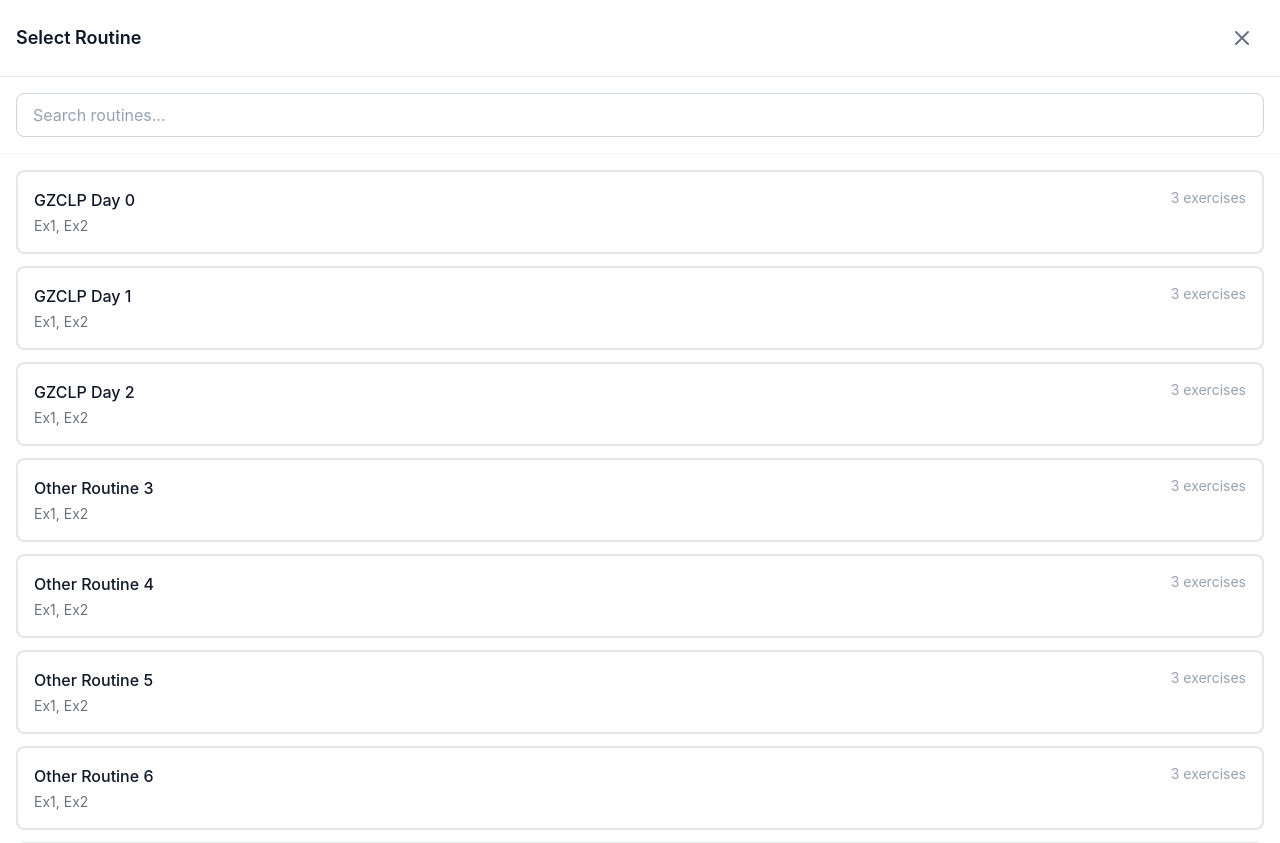
Test case: RoutineSelector › search/filter › filters routines by search term
In the field with placeholder "Search routines...": (640, 115) [16, 93, 1264, 137], type "GZCLP"
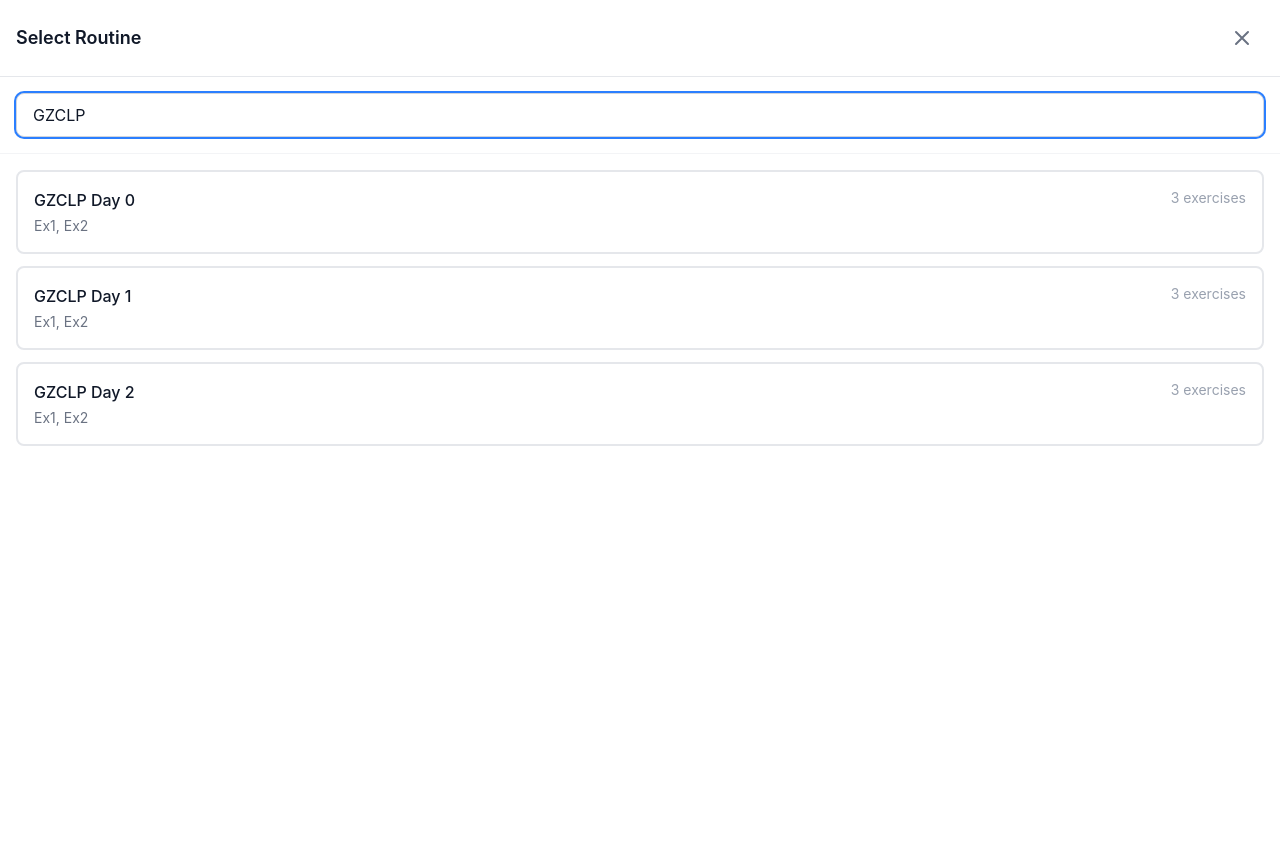
Expected: the heading "GZCLP Day 0" is shown, [34, 188, 135, 212]
Now the button "Other Routine 5" is gone
